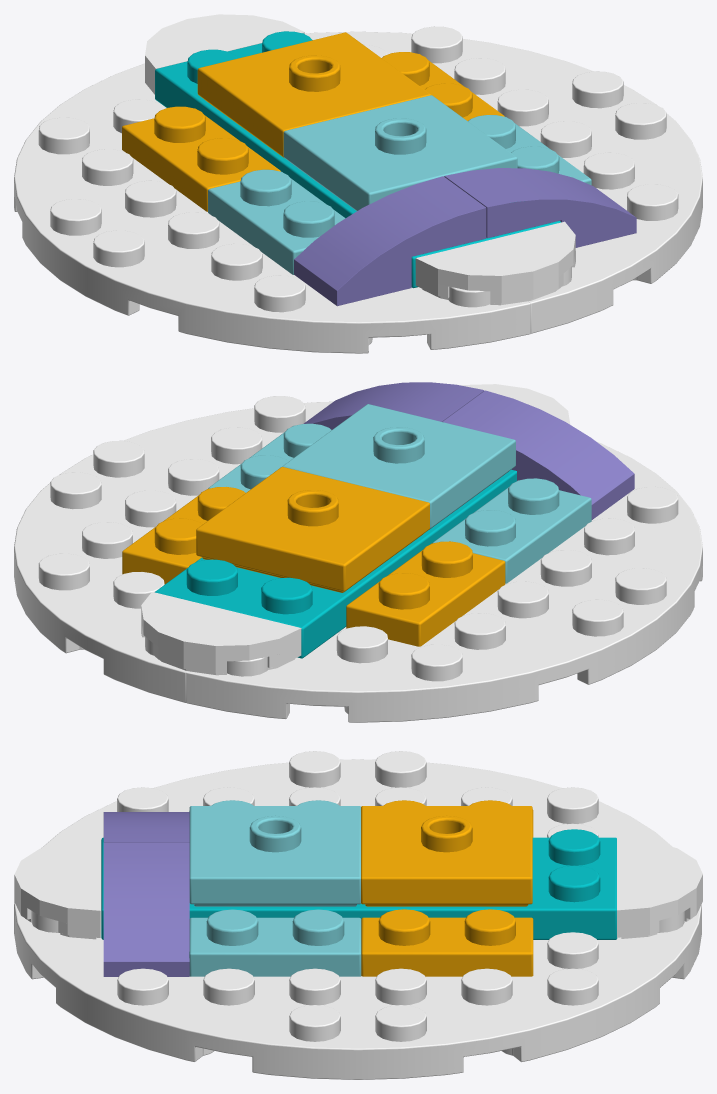
Rendered from Passo 6.fbx.
3 renders of one model, top to bottom at view 1: azimuth 30°, elevation 25°; view 2: azimuth 150°, elevation 25°; view 3: azimuth 270°, elevation 25°, orthographic.
Parts seen in each view (by area): view 1: Plate_round_4x8_1.004, Plate_round_4x8.005, Plate_special_2x2, Plate_special_2x2__1_, Slope_curved_2x1_Inverted__1_.002, Slope_curved_2x1_Inverted.002, Tile_round_1x2.003, Plate_1x2__3_.001, Plate_1x2__2_.001, Plate_2x6.005, Tile_round_1x2__1_.003, Plate_1x2.001 (+1 smaller); view 2: Plate_round_4x8_1.004, Plate_round_4x8.005, Plate_special_2x2__1_, Plate_special_2x2, Plate_2x6.005, Plate_1x2__3_.001, Slope_curved_2x1_Inverted__1_.002, Tile_round_1x2__1_.003, Plate_1x2__2_.001, Plate_1x2.001, Slope_curved_2x1_Inverted.002, Plate_1x2__1_.001 (+1 smaller); view 3: Plate_round_4x8.005, Plate_round_4x8_1.004, Plate_special_2x2__1_, Plate_special_2x2, Plate_2x6.005, Slope_curved_2x1_Inverted.002, Plate_1x2.001, Plate_1x2__1_.001, Tile_round_1x2.003, Tile_round_1x2__1_.003, Slope_curved_2x1_Inverted__1_.002.
Part boxes in pixels (<box>): Plate_round_4x8_1.004: <box>14,63,530,353</box>; Plate_round_4x8.005: <box>305,26,702,333</box>; Plate_special_2x2: <box>283,95,517,210</box>; Plate_special_2x2__1_: <box>197,32,431,157</box>; Slope_curved_2x1_Inverted__1_.002: <box>294,176,486,306</box>; Slope_curved_2x1_Inverted.002: <box>444,168,636,247</box>; Tile_round_1x2.003: <box>415,221,575,305</box>; Plate_1x2__3_.001: <box>122,106,280,211</box>; Plate_1x2__2_.001: <box>208,169,345,274</box>; Plate_2x6.005: <box>155,31,560,288</box>; Tile_round_1x2__1_.003: <box>145,14,304,94</box>; Plate_1x2.001: <box>382,52,504,120</box>; Plate_round_4x8_1.004: <box>186,442,702,722</box>; Plate_round_4x8.005: <box>14,396,332,702</box>; Plate_special_2x2__1_: <box>196,467,429,592</box>; Plate_special_2x2: <box>282,404,515,529</box>; Plate_2x6.005: <box>155,469,516,658</box>; Plate_1x2__3_.001: <box>346,541,505,646</box>; Slope_curved_2x1_Inverted__1_.002: <box>443,390,634,519</box>; Tile_round_1x2__1_.003: <box>141,592,301,675</box>; Plate_1x2__2_.001: <box>433,478,591,583</box>; Plate_1x2.001: <box>122,487,245,584</box>; Slope_curved_2x1_Inverted.002: <box>303,382,484,429</box>; Plate_1x2__1_.001: <box>208,423,331,492</box>; Plate_round_4x8.005: <box>14,904,701,1079</box>; Plate_round_4x8_1.004: <box>14,751,672,933</box>; Plate_special_2x2__1_: <box>361,806,532,906</box>; Plate_special_2x2: <box>189,806,360,906</box>; Plate_2x6.005: <box>101,829,617,939</box>; Slope_curved_2x1_Inverted.002: <box>103,842,189,976</box>; Plate_1x2.001: <box>361,909,533,976</box>; Plate_1x2__1_.001: <box>189,909,361,976</box>; Tile_round_1x2.003: <box>14,838,100,939</box>; Tile_round_1x2__1_.003: <box>617,838,702,938</box>; Slope_curved_2x1_Inverted__1_.002: <box>103,812,189,842</box>.
Size of the model in its own units: 0.6392 by 0.1126 by 0.6409.
